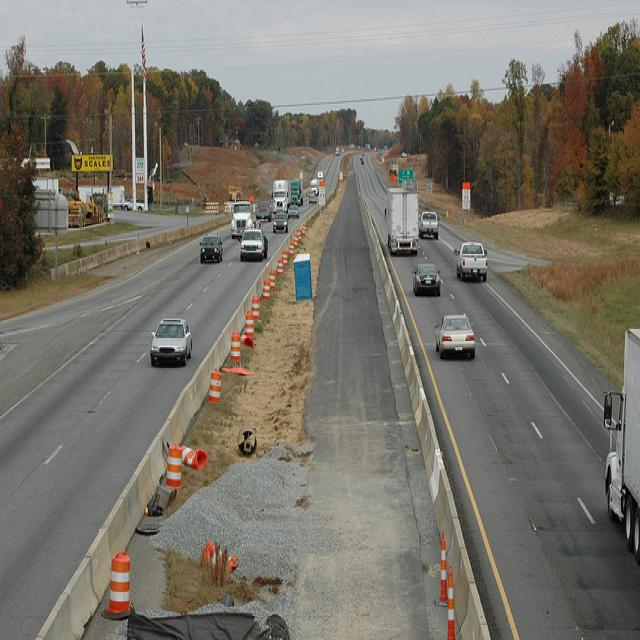Vehicle: (603, 327, 640, 563), (385, 179, 420, 256), (150, 318, 193, 367), (435, 314, 476, 359), (454, 241, 488, 284), (230, 198, 262, 242), (238, 231, 270, 262), (412, 264, 440, 296), (200, 234, 224, 266), (272, 180, 288, 215), (420, 214, 438, 239), (273, 210, 288, 233), (290, 179, 303, 205), (288, 204, 300, 220), (310, 178, 320, 196), (309, 194, 316, 206)
